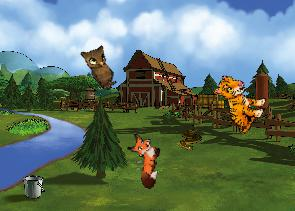fox: (121, 132, 164, 189)
owl: (76, 39, 127, 92)
tiger: (203, 71, 272, 136)
